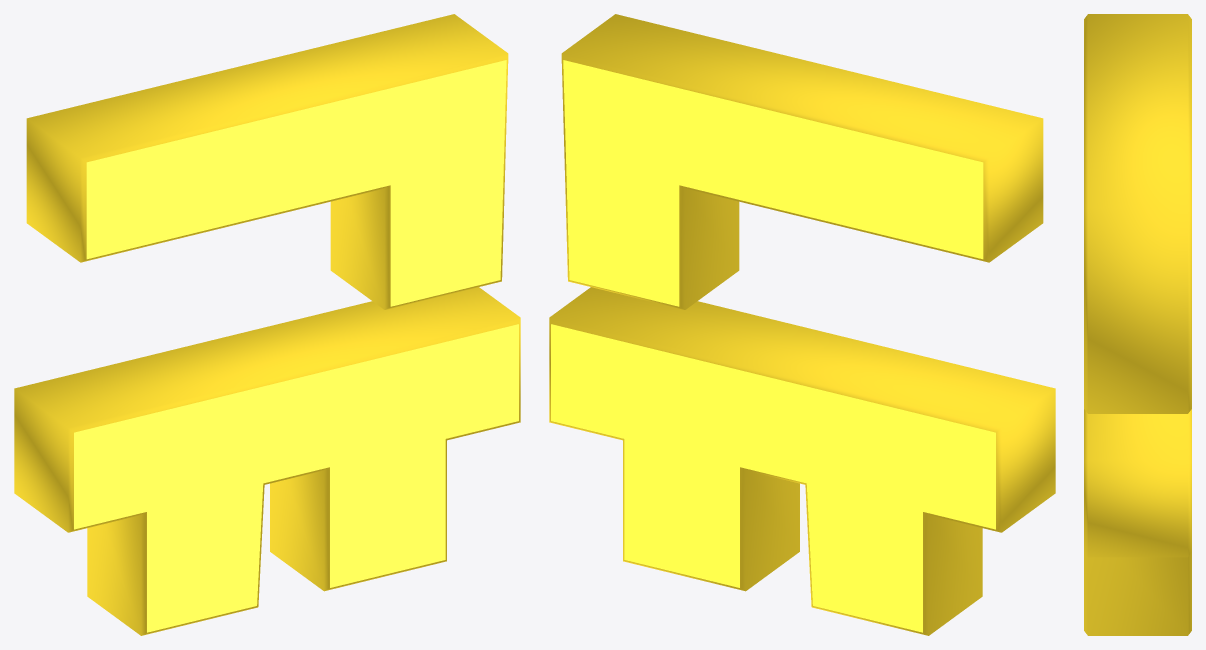
The model's file is u_addc_y.glb.
3 renders of one model, left to right at view 1: azimuth 30°, elevation 25°; view 2: azimuth 150°, elevation 25°; view 3: azimuth 270°, elevation 25°, orthographic. The views are drawn at different scales.
Parts seen in each view (by area): view 1: glyph; view 2: glyph; view 3: glyph.
Part boxes in pixels (box(x1,y1,x2,y2)): glyph: box(14, 14, 520, 635); glyph: box(549, 14, 1055, 635); glyph: box(1084, 14, 1191, 635).
Size of the model in its own units: 0.0726 by 0.0756 by 0.0162.
